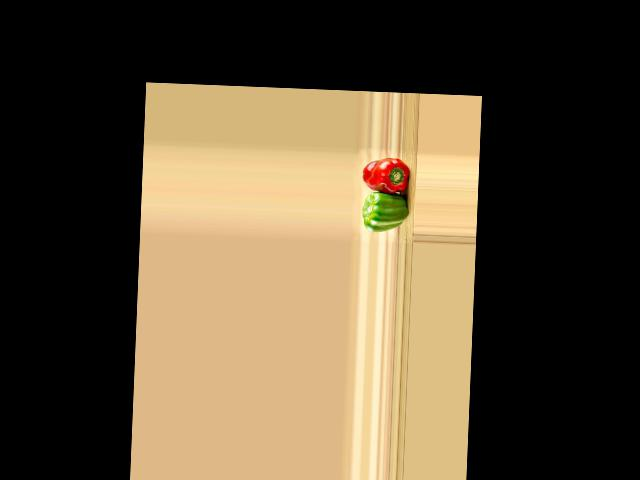bell_pepper: (361, 155, 409, 195)
